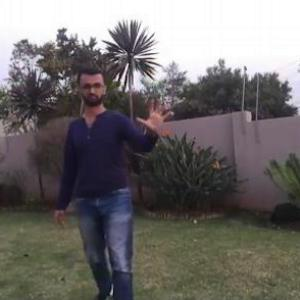follow_hand: (136, 96, 178, 135)
